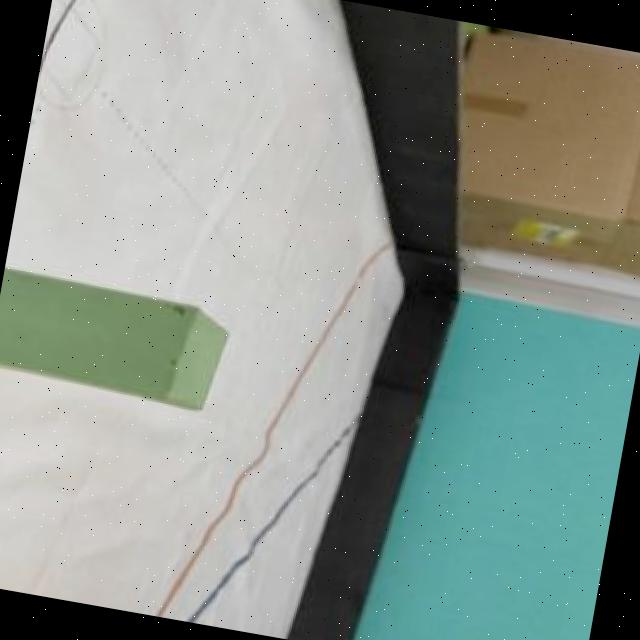greenbox: (0, 266, 241, 416)
